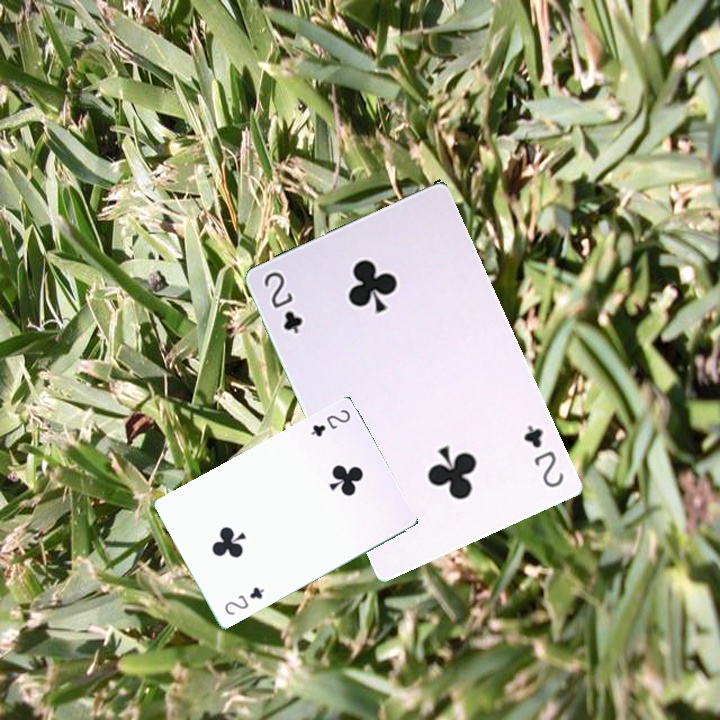2c: (519, 421, 567, 490), (260, 267, 306, 336), (220, 583, 266, 618), (307, 405, 353, 440)
